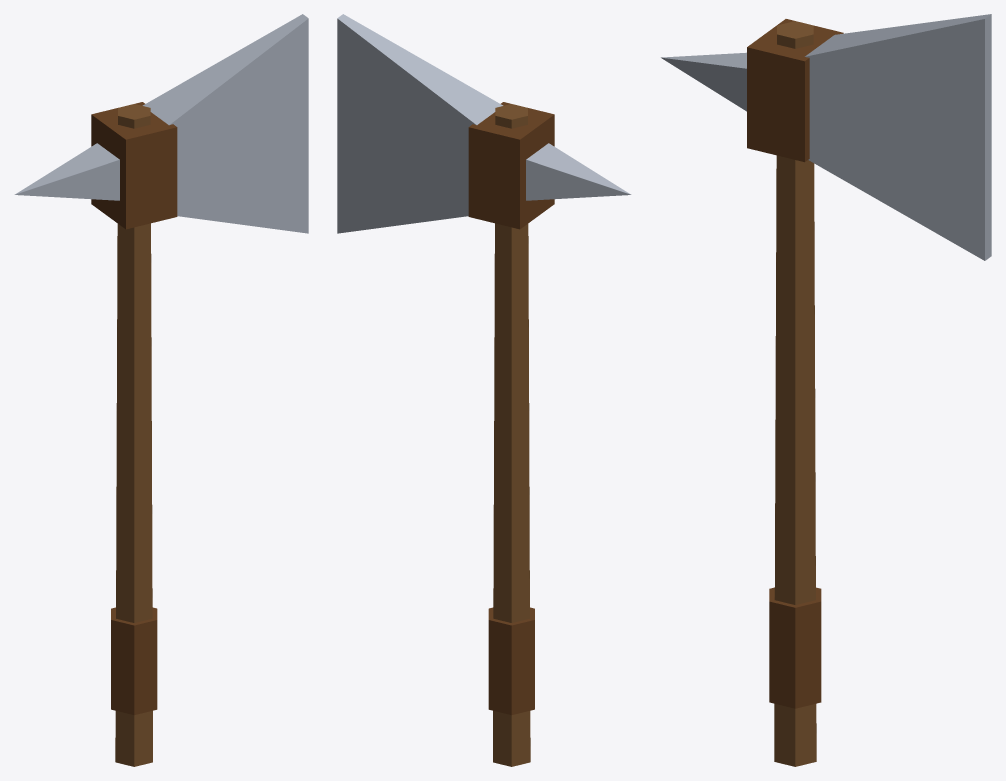
Rendered from IronAxe.obj.
3 views of the same model, side by side, from view 1: azimuth 30°, elevation 25°; view 2: azimuth 150°, elevation 25°; view 3: azimuth 330°, elevation 25° (orthographic). The views are drawn at different scales.
Parts seen in each view (by area): view 1: Grip, Blade; view 2: Grip, Blade; view 3: Blade, Grip.
Boxes of the visible parts, x1=… form: Grip: x1=91, y1=102, x2=177, y2=766; Blade: x1=14, y1=14, x2=308, y2=233; Grip: x1=468, y1=102, x2=554, y2=766; Blade: x1=337, y1=14, x2=631, y2=233; Blade: x1=661, y1=14, x2=991, y2=260; Grip: x1=747, y1=19, x2=843, y2=766.
Bounding box in the file's own units: 0.34 × 0.78 × 0.07.
